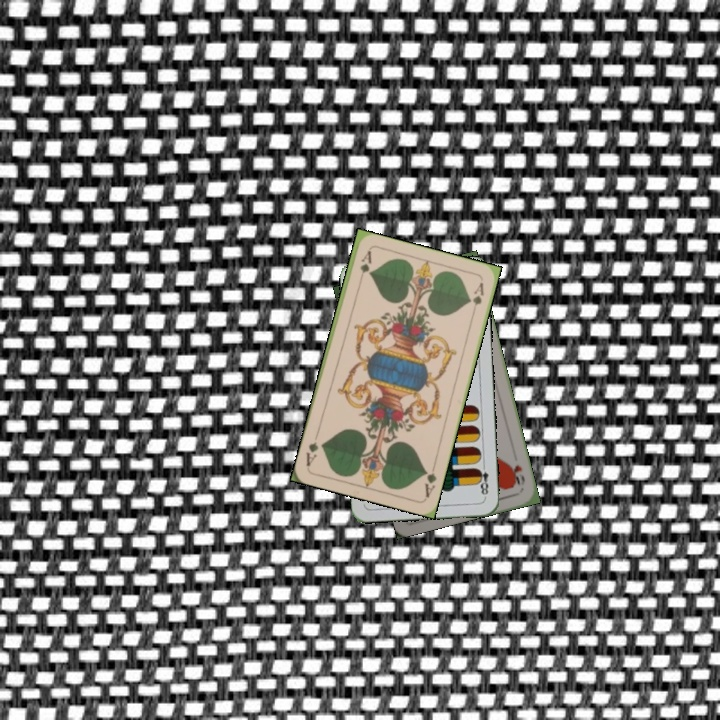E8: (473, 460, 491, 500)
GA: (420, 460, 439, 500), (355, 247, 374, 287)
HO: (506, 459, 528, 488)
